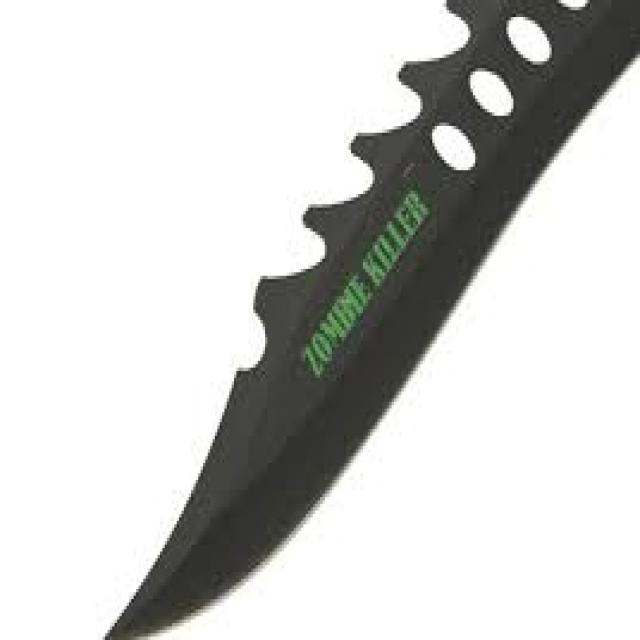knives: (118, 3, 595, 640)
